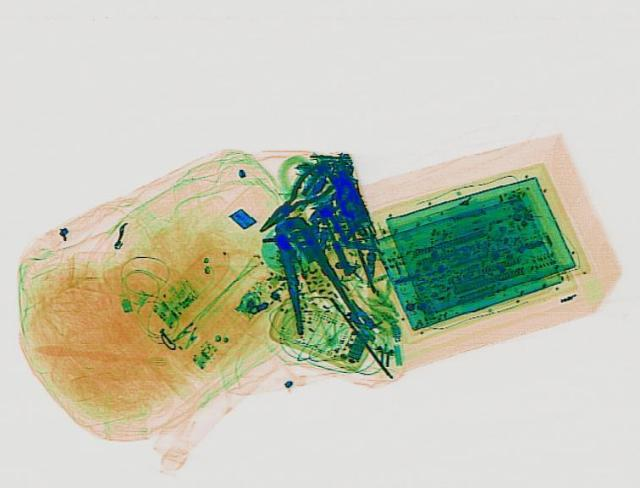Pliers: (251, 210, 365, 336), (244, 160, 344, 238)
